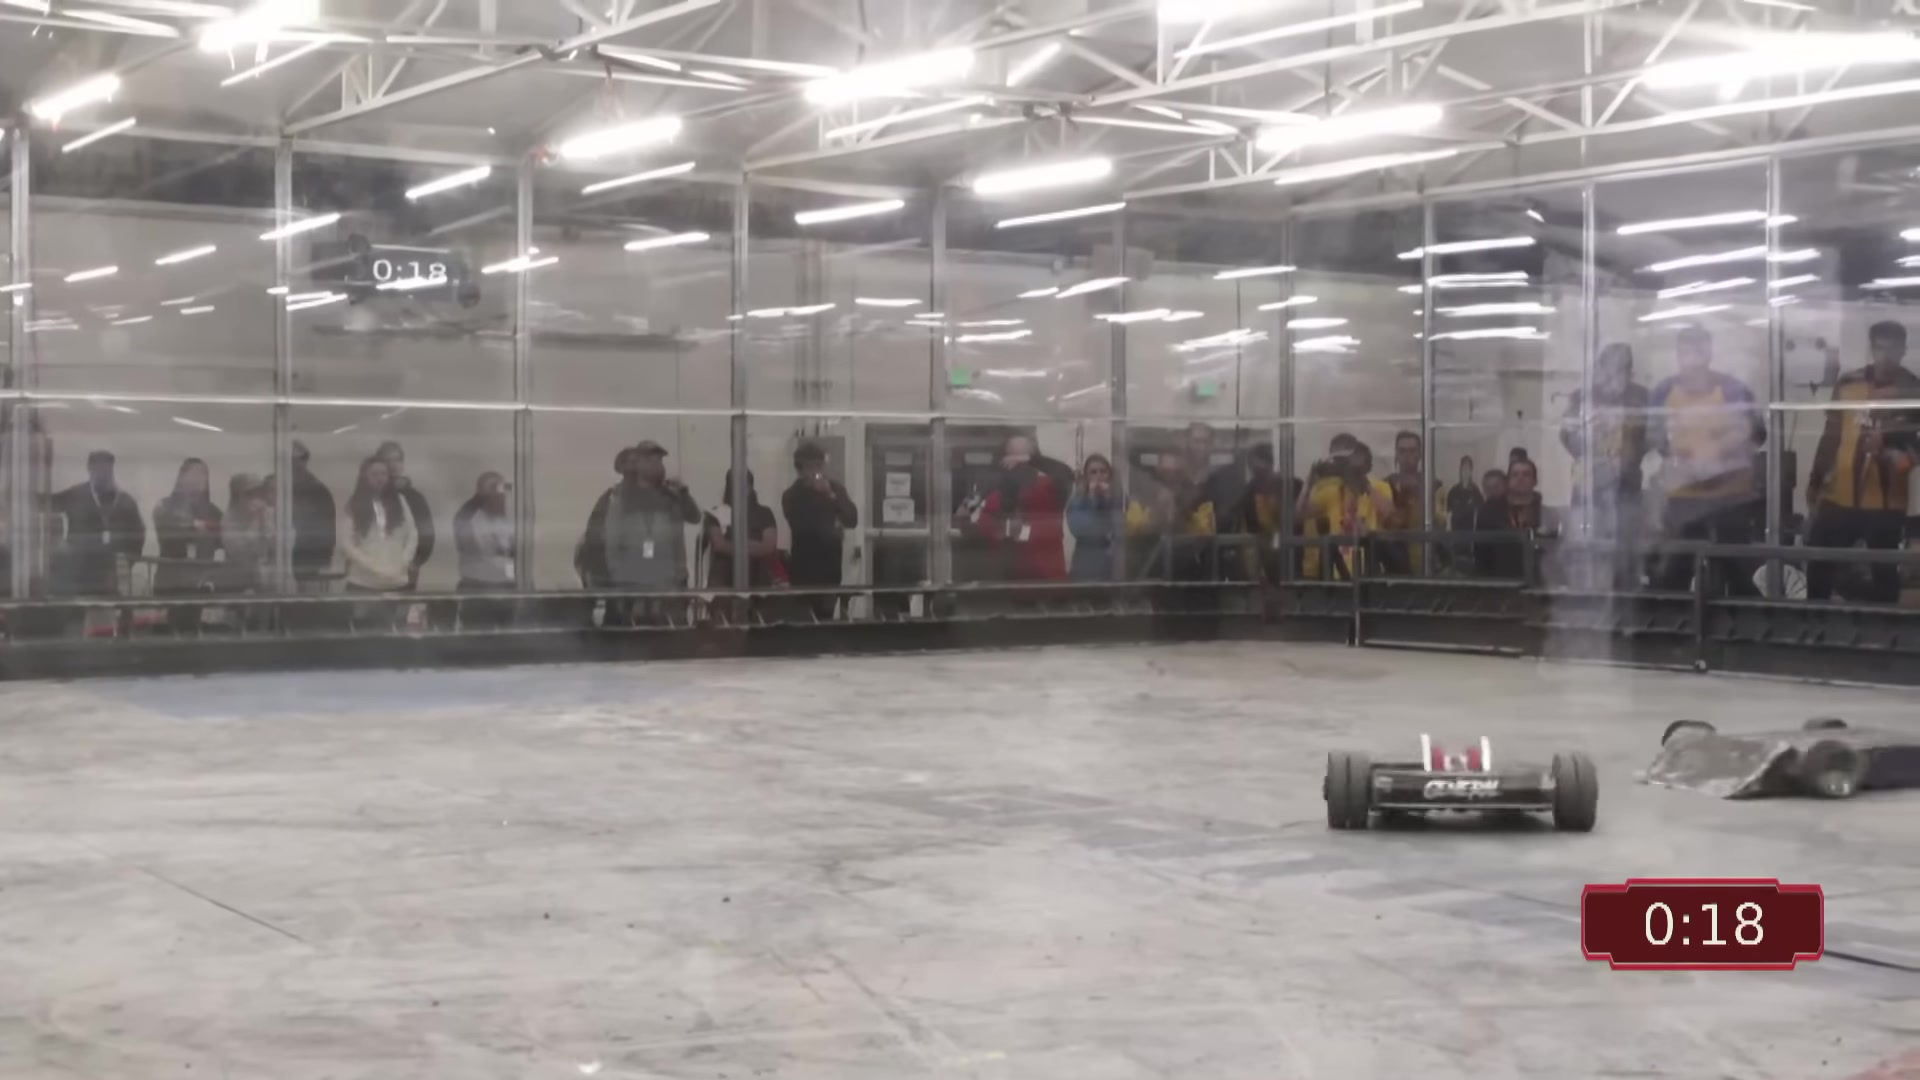combatbot: (1327, 736, 1602, 832), (1636, 719, 1920, 799)
